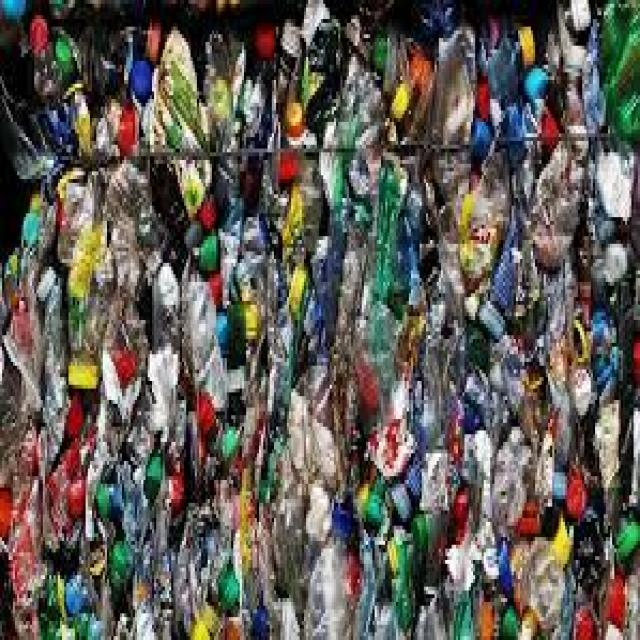plastic: (31, 66, 624, 622)
